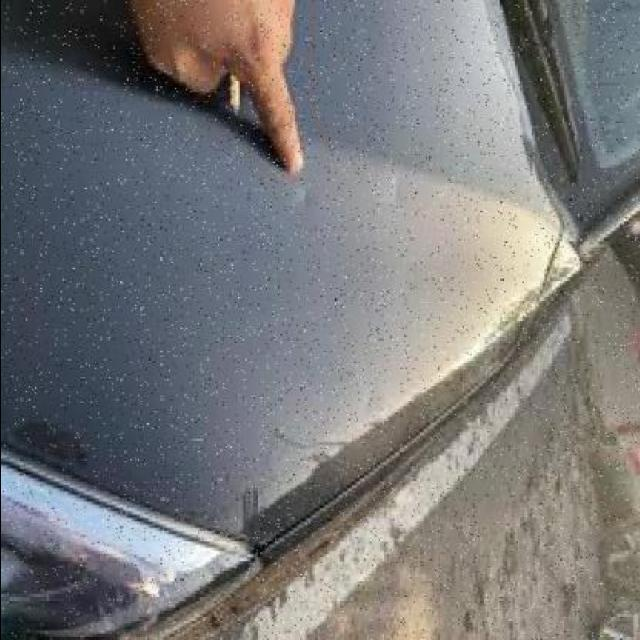bonnet-dent: (85, 0, 613, 601)
